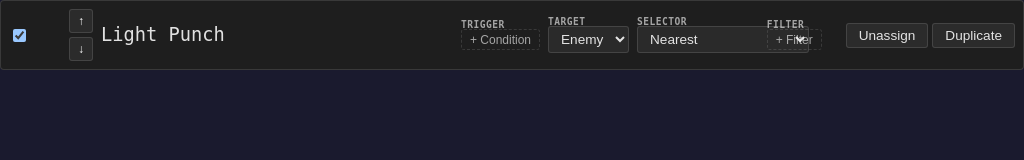
Scenario: SkillRow - Target Self Hides Selector and Filter › dynamic target changes › changing target from enemy to self hides SELECTOR and FilterControls
expect the text "SELECTOR" is shown: met, box top-left (637, 17), bottom-right (687, 26)
Select "Self" in the dropdown named "target for light punch" at coordinates (588, 40), box top-left (548, 26), bottom-right (629, 53)
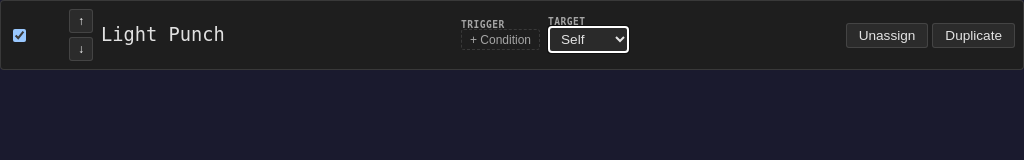
expect the text "SELECTOR" is gone: met
expect the text "FILTER" is gone: met
